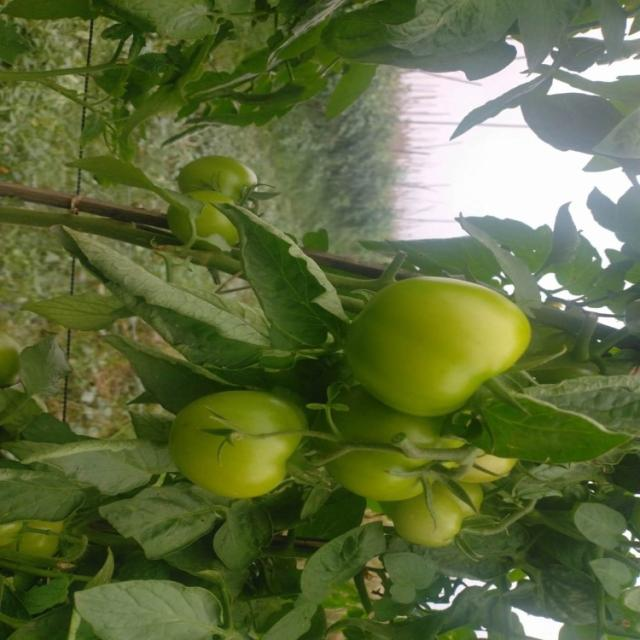tomato: (344, 263, 536, 414), (167, 374, 299, 496), (291, 389, 410, 502), (383, 471, 480, 548), (1, 516, 119, 571), (160, 188, 243, 250), (435, 432, 512, 493), (170, 160, 264, 207)
